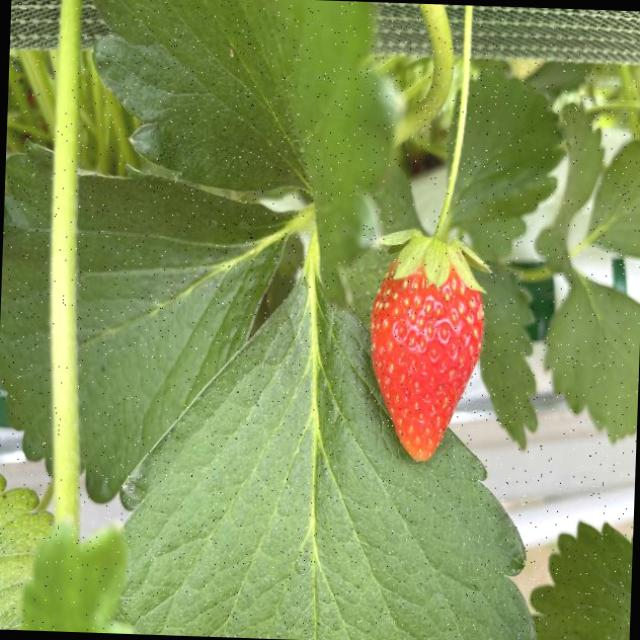stem: (381, 5, 489, 291)
strawberryR: (371, 268, 483, 460)
